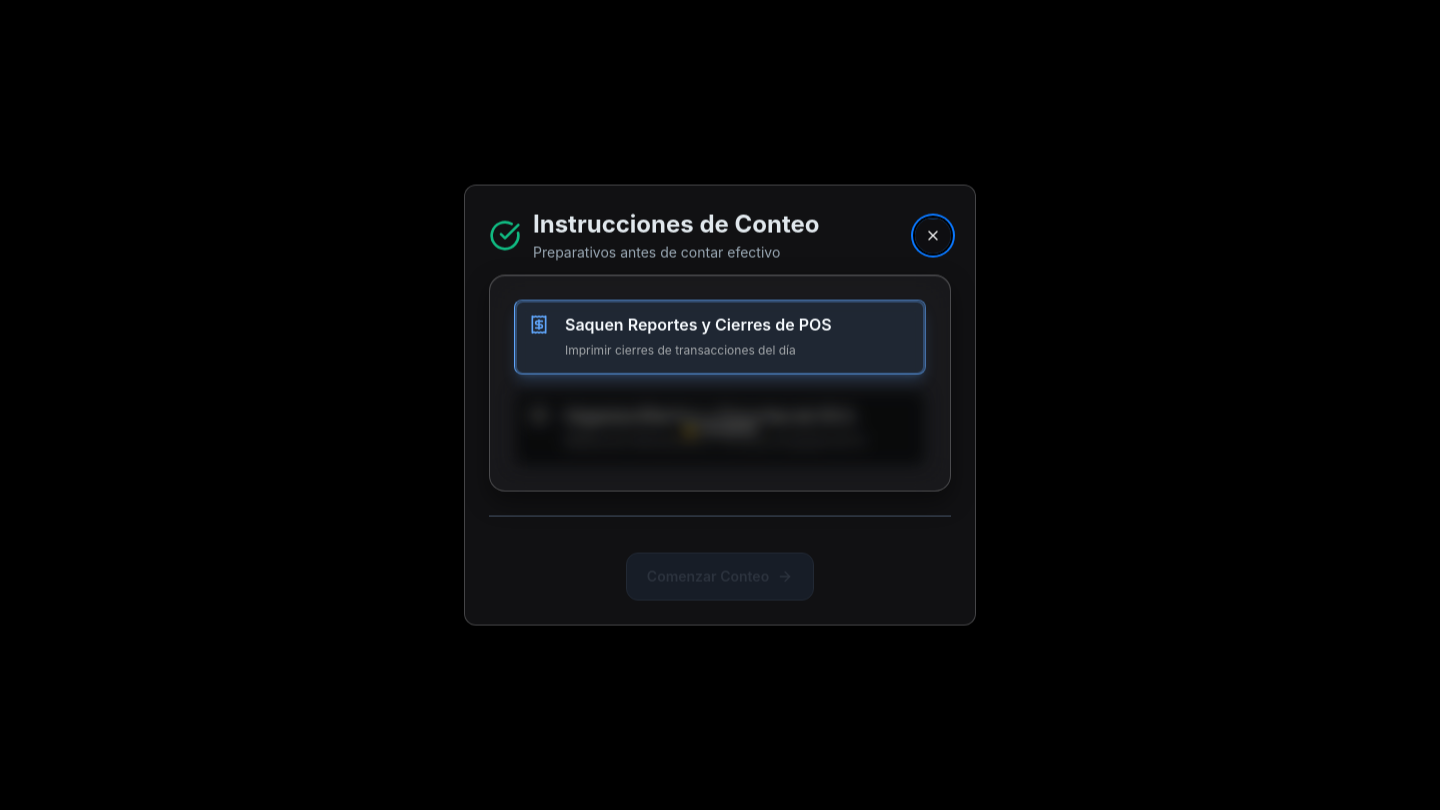
Test: 📋 GuidedInstructionsModal - Integration Tests › ▶️ Fase 3: Botón Comenzar Conteo › Test 3.5: click en botón X abre modal de confirmación
Click the button named "cerrar modal" at (933, 236), box [915, 218, 951, 254]
Wait 100 ms
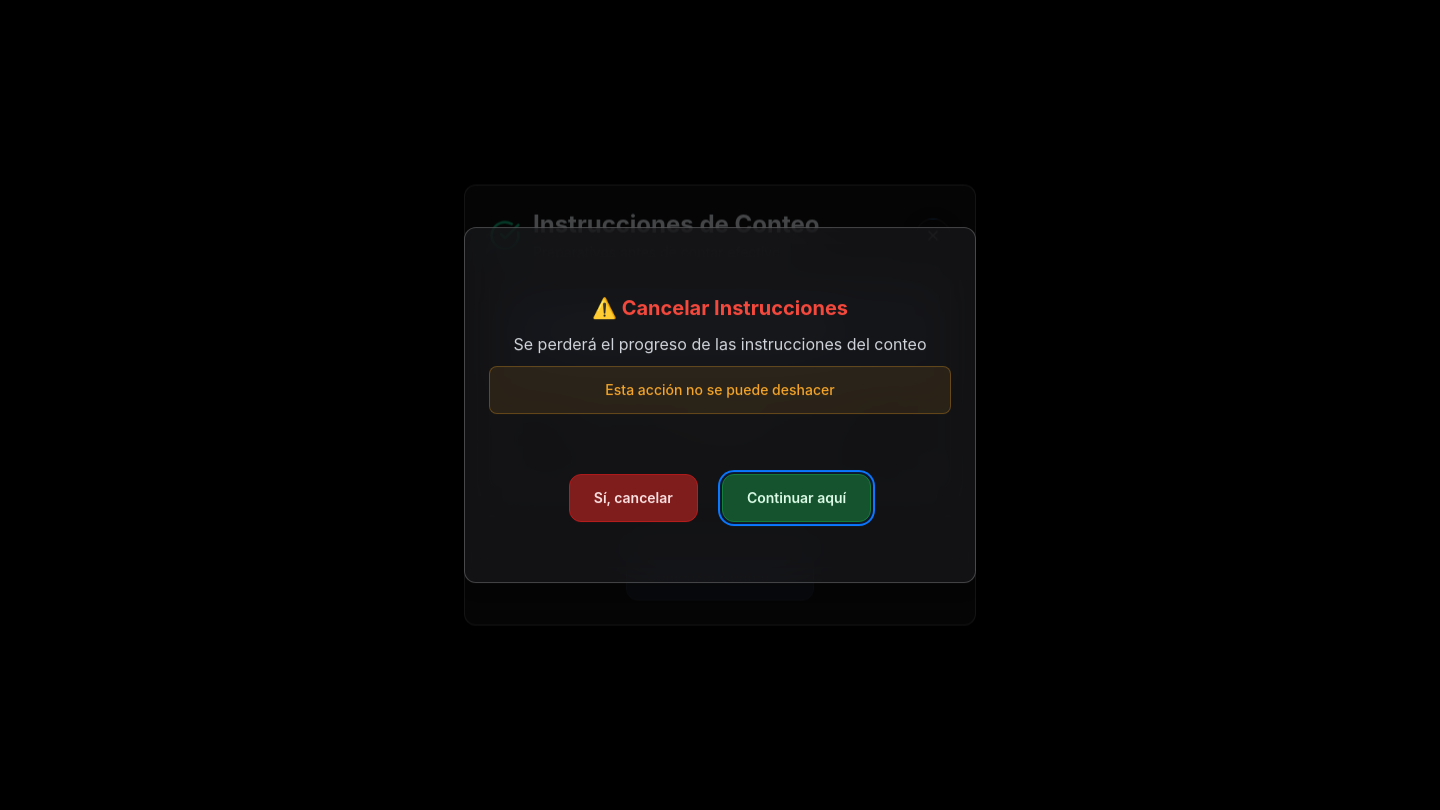
expect the heading "⚠️ Cancelar Instrucciones" is shown: met, box [592, 296, 848, 320]
expect the button "Sí, cancelar" is shown: met, box [569, 474, 698, 522]
expect the button "Continuar aquí" is shown: met, box [722, 474, 871, 522]
